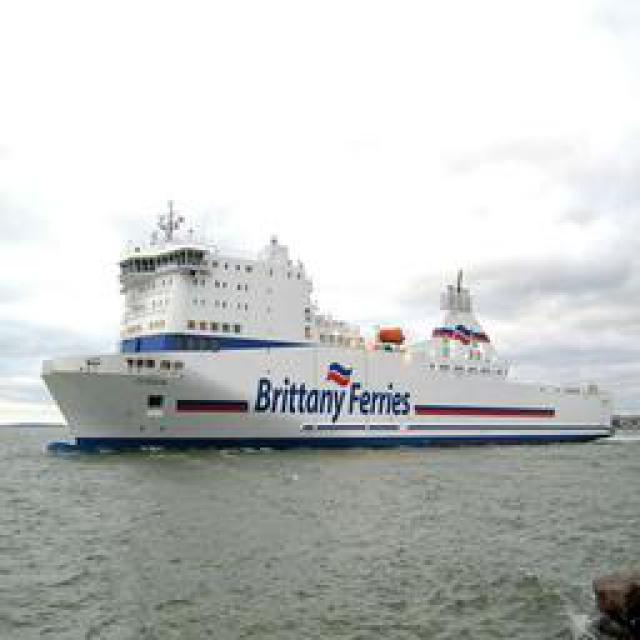Ship: (44, 230, 609, 453)
